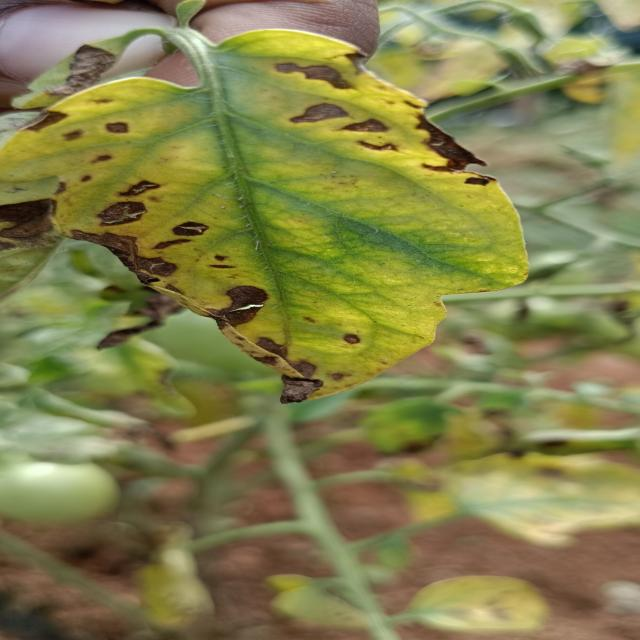tomato_early blight: (1, 22, 532, 400), (429, 451, 640, 546), (419, 568, 551, 630)
